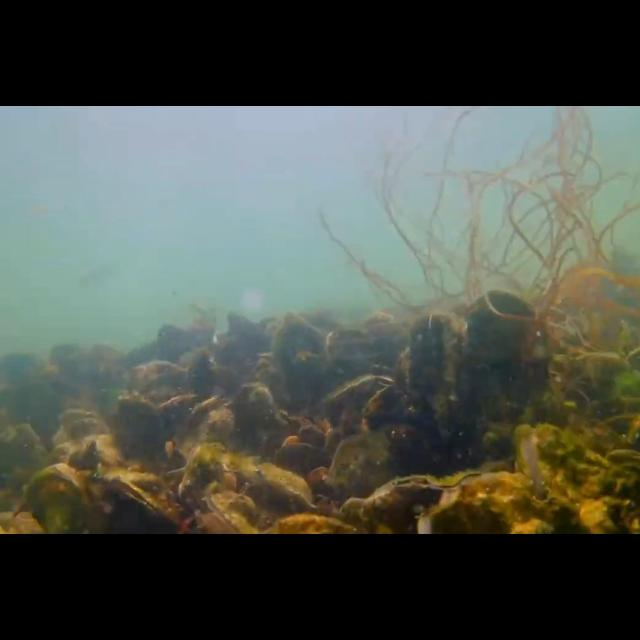Oyster-Closed: (462, 293, 548, 422), (406, 312, 466, 418), (16, 465, 86, 535), (326, 434, 396, 502), (116, 395, 164, 469), (6, 424, 48, 498), (258, 462, 314, 508), (72, 438, 98, 469)
Oyster-Open: (514, 425, 640, 535), (84, 473, 172, 535), (326, 375, 398, 433), (180, 442, 223, 508), (205, 493, 261, 535), (185, 397, 237, 441)
